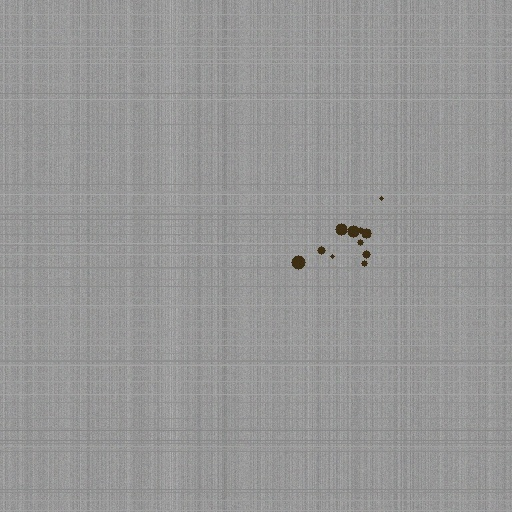contamination: (287, 192, 387, 273)
